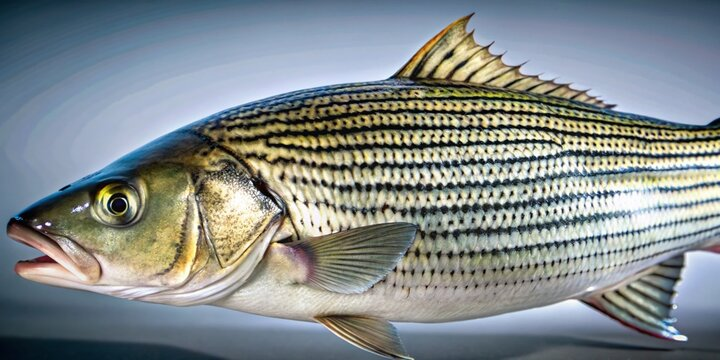Striped Bass: (9, 39, 720, 360)
